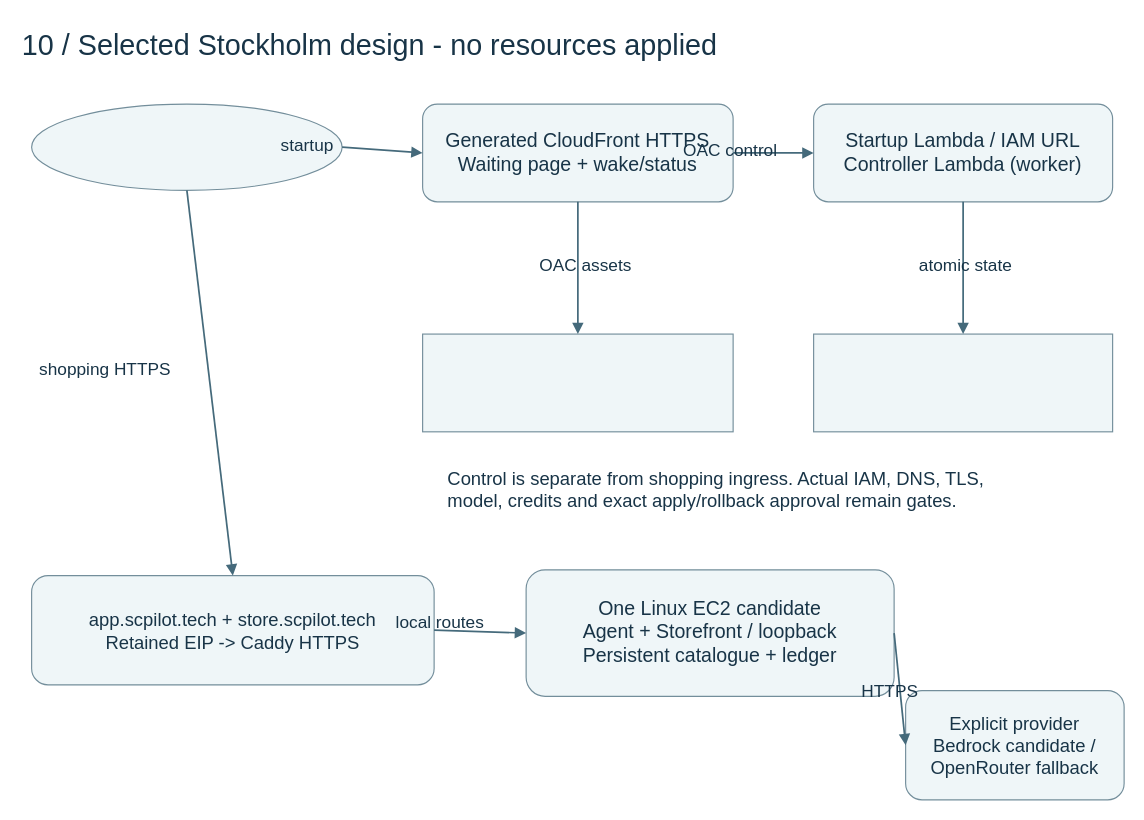
Image size: 1144x820. Some labels were removed from this diagram. Here are the shapes that lost their labels. From the top down, the centre of each, then its label:
(x=186, y=146): Invited Shopper browser
(x=577, y=382): Private S3 waiting assets OAC, no public bucket
(x=962, y=382): DynamoDB authority Invitation / generation / leases
